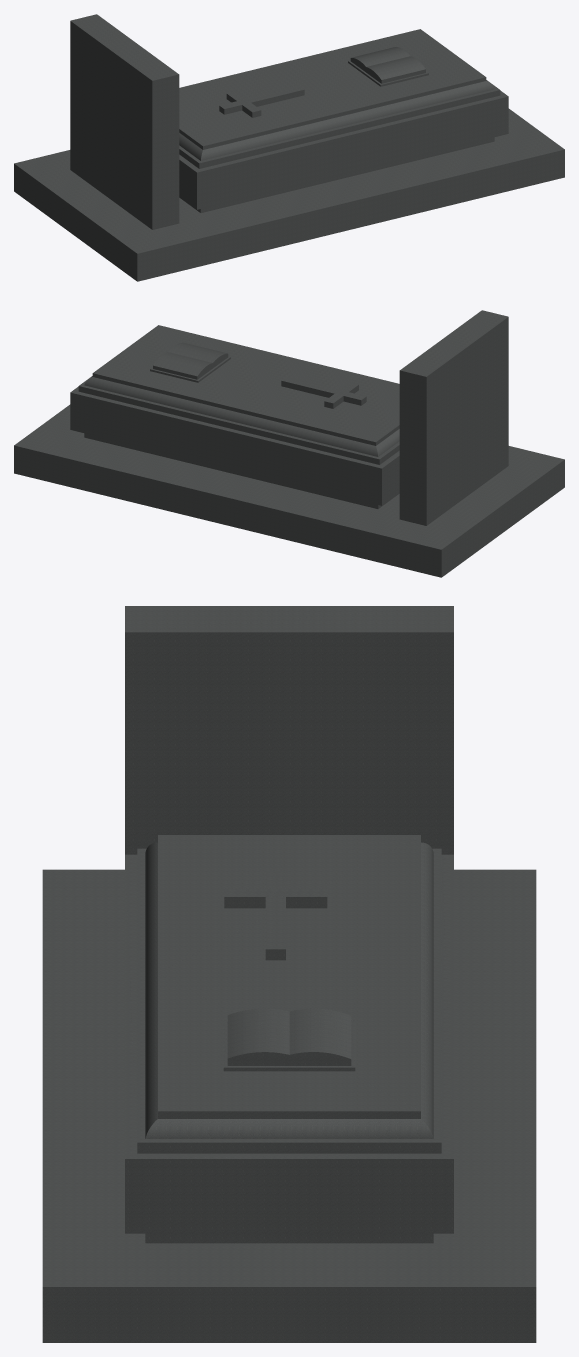
File: product4.glb
3 views of the same model, one above another, from view 1: azimuth 30°, elevation 25°; view 2: azimuth 150°, elevation 25°; view 3: azimuth 270°, elevation 25° (orthographic). The views are drawn at different scales.
Visible parts, largest first — view 1: Component#11, Component#25, Component#19, Component#24, Component#28, Component#20, Component#26, Component#27; view 2: Component#11, Component#25, Component#19, Component#24, Component#28, Component#20, Component#26, Component#27; view 3: Component#11, Component#25, Component#19, Component#24, Component#28, Component#20, Component#27, Component#26.
Boxes of the visible parts, x1,y1,x2,y2 form: Component#11: (14, 108, 564, 281); Component#25: (179, 29, 494, 160); Component#19: (70, 14, 179, 229); Component#24: (179, 80, 508, 209); Component#28: (348, 47, 428, 86); Component#20: (179, 137, 494, 212); Component#26: (219, 86, 304, 114); Component#27: (226, 91, 261, 117); Component#11: (14, 404, 564, 577); Component#25: (84, 325, 399, 456); Component#19: (399, 310, 508, 525); Component#24: (70, 376, 399, 505); Component#28: (150, 342, 230, 382); Component#20: (84, 433, 399, 508); Component#26: (281, 377, 366, 405); Component#27: (324, 382, 358, 408); Component#11: (42, 869, 536, 1342); Component#25: (145, 835, 433, 1138); Component#19: (125, 606, 453, 854); Component#24: (125, 848, 453, 1233); Component#28: (223, 1008, 355, 1071); Component#20: (145, 1233, 433, 1243); Component#27: (224, 888, 327, 908); Component#26: (265, 871, 285, 960).
Size of what is drawn, in the model's own units: 2.4 by 0.95 by 1.2.
1 material, 1 textured.
